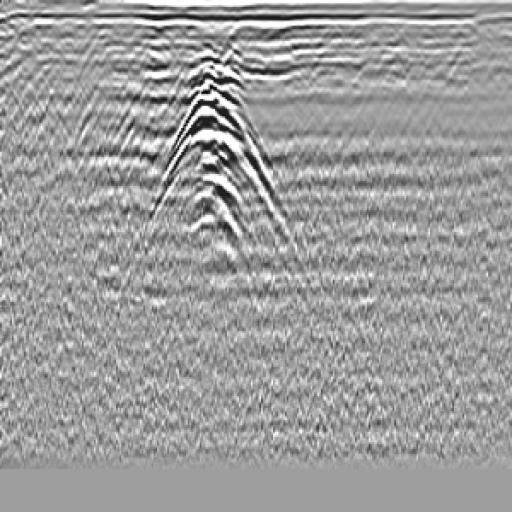metalic: (137, 62, 298, 277)
